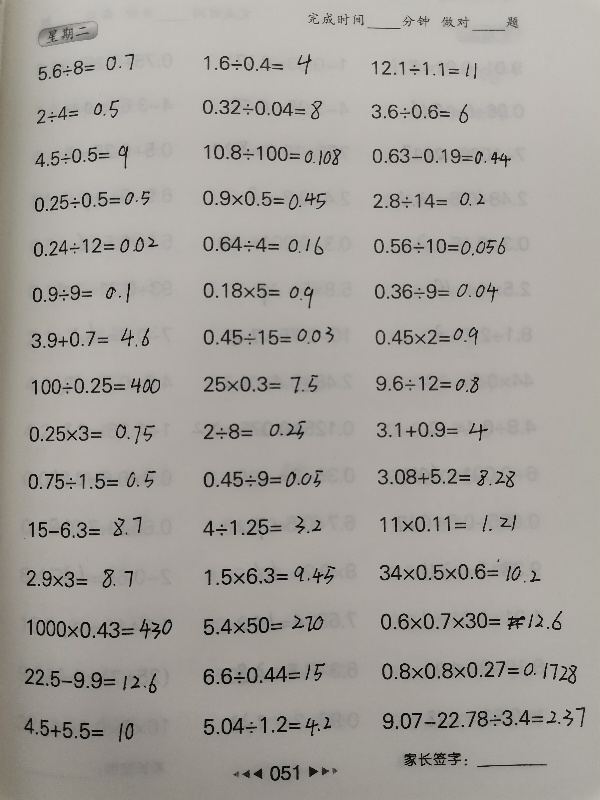equation: (368, 656, 588, 688), (380, 706, 593, 737), (376, 607, 570, 637), (376, 554, 543, 585), (195, 45, 328, 80), (24, 616, 177, 643), (377, 513, 527, 540), (17, 562, 144, 593), (21, 666, 160, 694), (199, 711, 334, 739), (373, 464, 518, 490), (201, 561, 338, 588), (20, 717, 143, 747), (368, 144, 514, 169), (199, 141, 344, 166), (26, 421, 159, 448), (371, 279, 502, 306), (197, 418, 318, 447), (369, 234, 509, 259), (200, 232, 328, 259), (198, 96, 325, 123), (27, 373, 164, 398), (198, 187, 329, 213), (19, 515, 145, 542), (199, 279, 316, 308), (24, 467, 159, 492), (27, 324, 152, 351), (199, 324, 337, 348), (200, 466, 327, 492), (29, 233, 161, 258), (199, 513, 324, 539), (199, 661, 328, 686), (199, 612, 327, 637), (200, 371, 321, 397), (31, 95, 126, 128), (31, 140, 131, 171), (373, 417, 491, 443), (30, 188, 154, 212), (367, 101, 472, 128), (29, 279, 133, 306), (372, 324, 482, 349), (369, 189, 488, 212), (367, 57, 480, 81), (372, 371, 482, 395), (33, 55, 139, 79)
